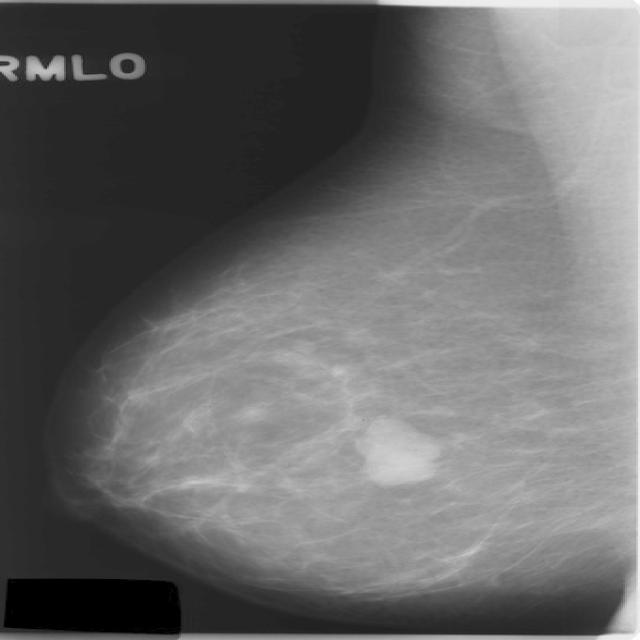tumour: (352, 415, 439, 485)
